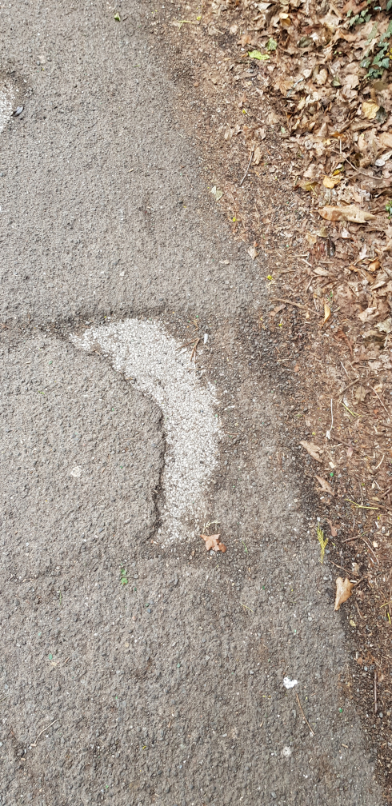pothole: (37, 301, 230, 559)
